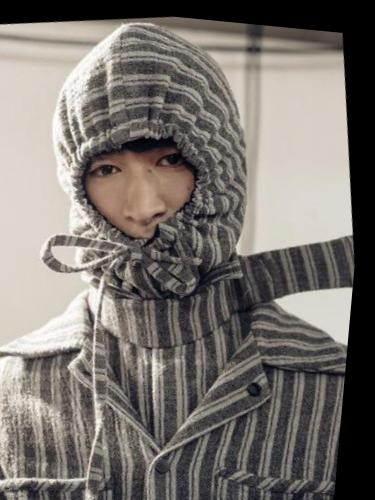WRONG: (66, 120, 237, 292)
